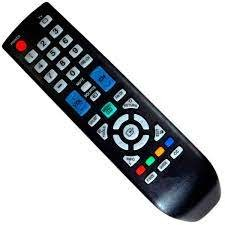remote control: (0, 0, 223, 225)
